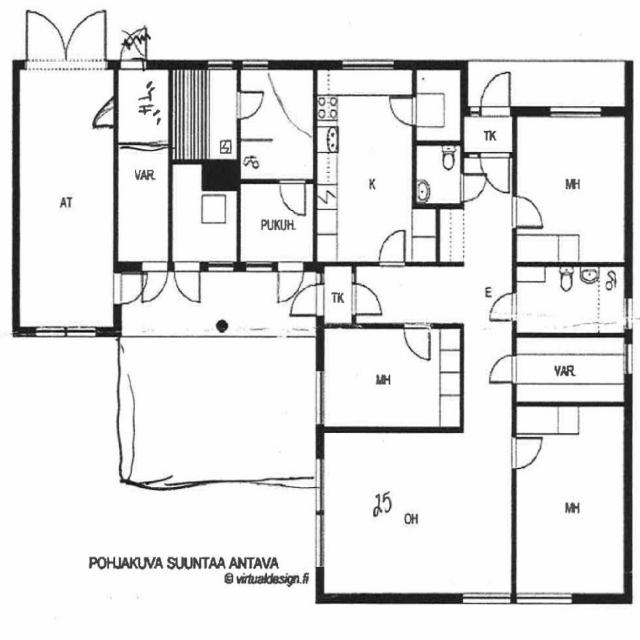door: (26, 11, 66, 70), (66, 11, 105, 70), (481, 71, 510, 116), (480, 152, 509, 194), (174, 260, 200, 304), (113, 274, 147, 306), (290, 285, 324, 317), (404, 322, 431, 362), (142, 260, 167, 303), (278, 260, 303, 303), (86, 95, 118, 128), (512, 195, 543, 228), (280, 179, 306, 215), (512, 438, 542, 468), (352, 284, 382, 314), (380, 230, 404, 266), (489, 294, 517, 322), (389, 97, 417, 125), (490, 356, 517, 383), (461, 174, 487, 202), (237, 92, 263, 118)
